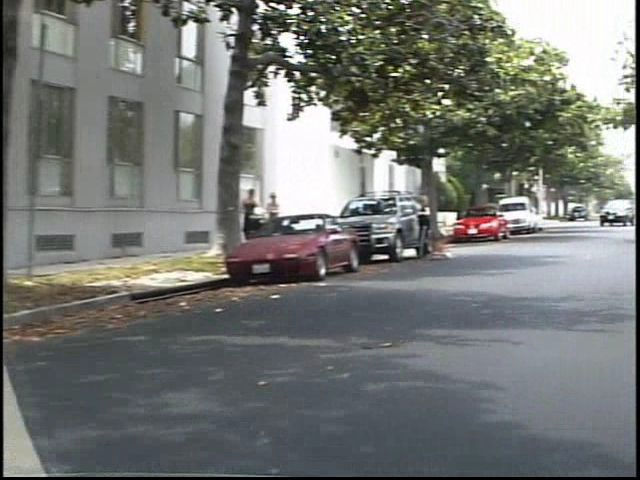person: (430, 193, 461, 267), (254, 184, 281, 252), (277, 189, 300, 249)
